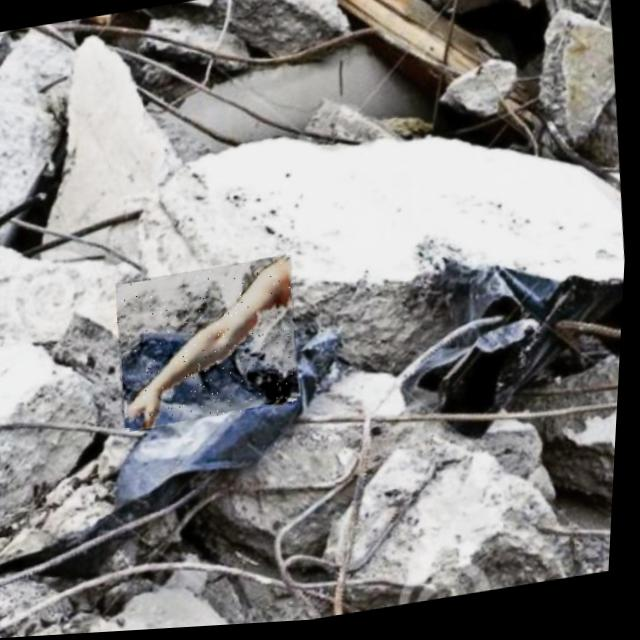Person in Rubble: (112, 257, 309, 433)
